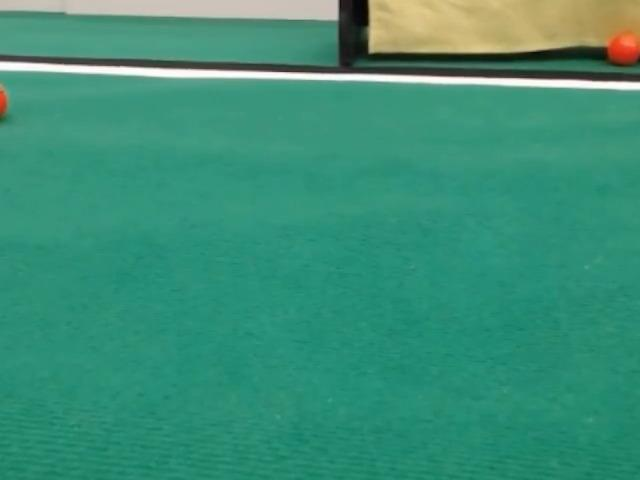Ball: (606, 31, 639, 65), (0, 85, 7, 119)
